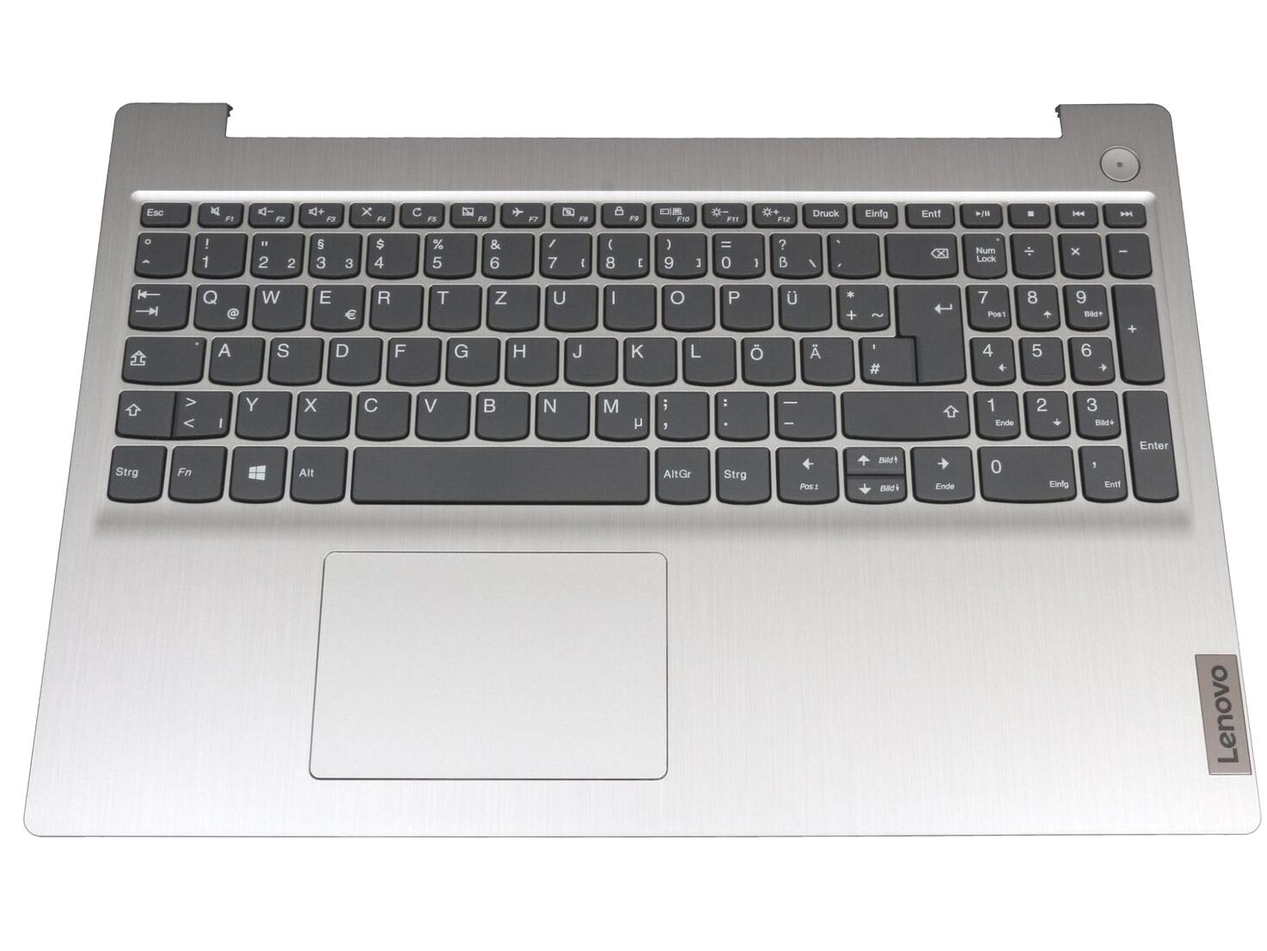0: (708, 229, 762, 275)
1: (191, 229, 244, 275)
2: (248, 229, 303, 275)
3: (306, 229, 360, 276)
4: (364, 229, 417, 275)
5: (421, 230, 474, 275)
6: (480, 230, 532, 275)
7: (537, 229, 590, 275)
8: (594, 229, 647, 275)
9: (652, 229, 706, 275)
a: (206, 333, 262, 382)
accent: (825, 230, 878, 275)
ae: (798, 333, 854, 383)
alt-left: (286, 441, 344, 501)
altgr-right: (652, 443, 708, 502)
b: (472, 387, 529, 439)
c: (352, 387, 409, 438)
caret: (132, 229, 186, 274)
comma: (652, 388, 708, 439)
d: (325, 334, 380, 383)
del: (884, 229, 956, 276)
e: (309, 280, 363, 328)
enter: (893, 279, 964, 382)
f: (384, 334, 438, 383)
g: (443, 334, 498, 382)
h: (502, 334, 557, 383)
hash: (856, 333, 912, 381)
i: (601, 280, 654, 328)
j: (561, 333, 616, 383)
k: (621, 333, 676, 383)
keyboard: (93, 181, 1193, 524)
l: (680, 333, 734, 383)
less: (172, 386, 230, 436)
m: (592, 387, 648, 439)
minus: (770, 387, 835, 438)
n: (532, 388, 589, 439)
o: (658, 280, 713, 328)
oe: (738, 333, 793, 383)
p: (717, 280, 771, 328)
plus: (834, 279, 887, 328)
point: (712, 387, 768, 438)
q: (192, 280, 247, 328)
r: (367, 281, 421, 328)
s: (266, 333, 321, 383)
shift-left: (112, 386, 171, 435)
shift-lock: (119, 333, 203, 382)
shift-right: (839, 385, 969, 438)
space: (348, 443, 648, 501)
ss: (767, 230, 820, 275)
strg-left: (104, 440, 164, 500)
strg-right: (712, 442, 769, 502)
t: (426, 280, 479, 328)
tab: (125, 279, 187, 328)
u: (542, 281, 597, 328)
ue: (775, 280, 829, 328)
v: (413, 388, 468, 439)
w: (250, 280, 304, 328)
x: (293, 387, 349, 438)
y: (234, 387, 290, 438)
z: (484, 280, 537, 328)
